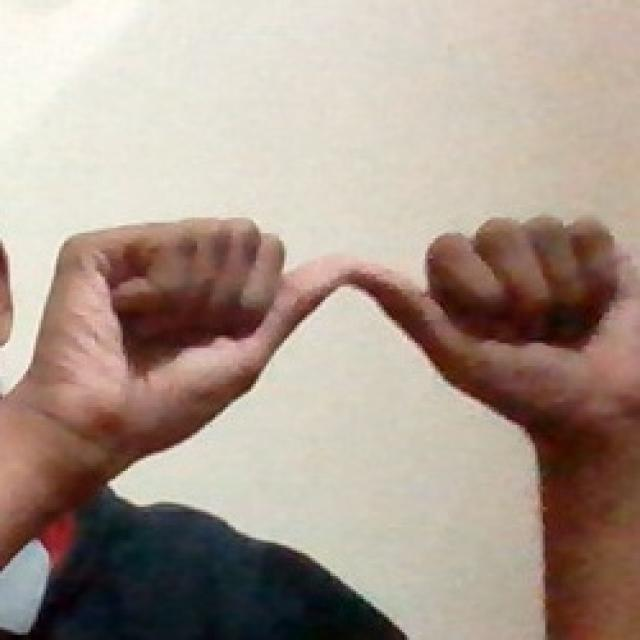Alphabet-A: (35, 211, 637, 453)
